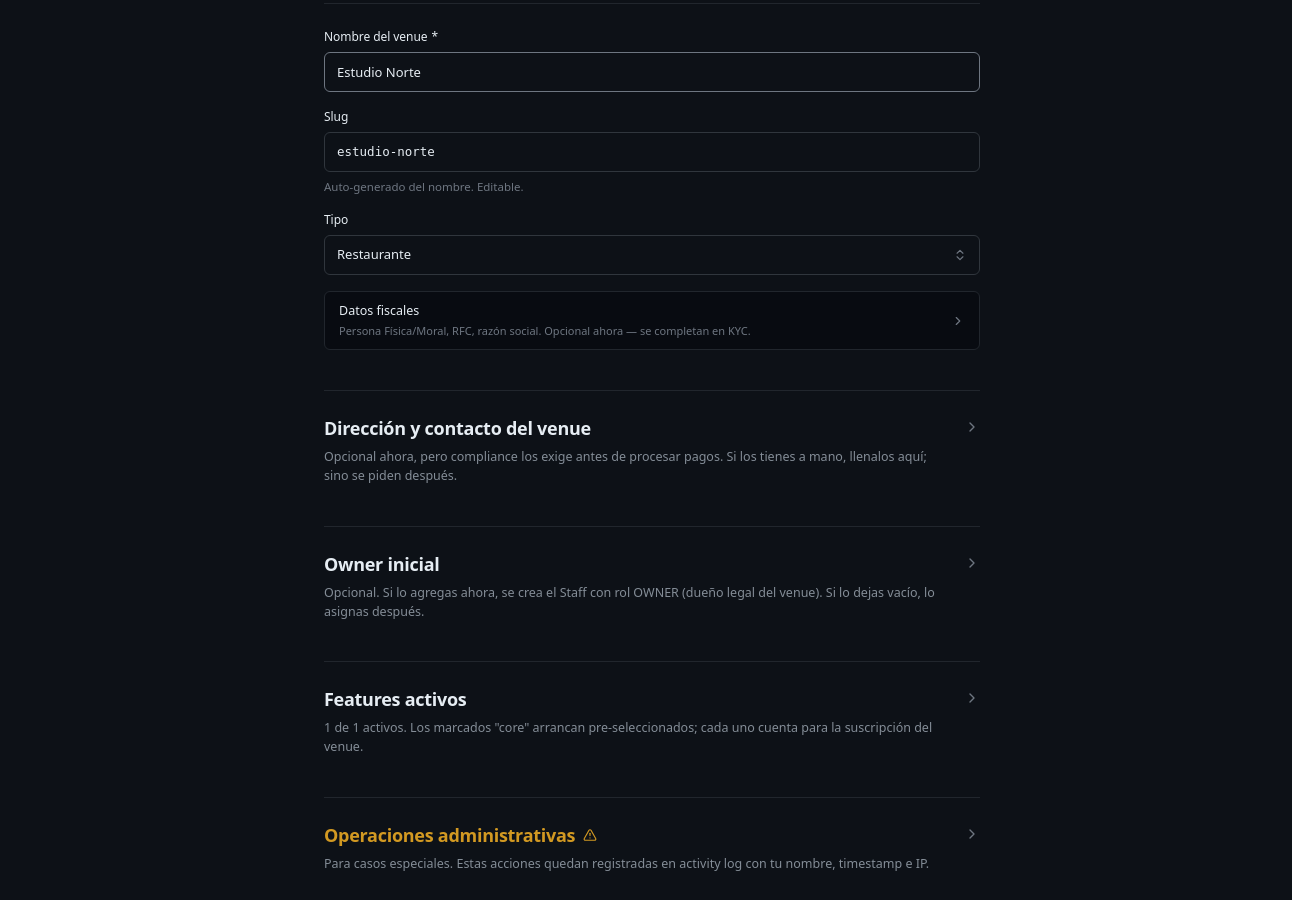
NewVenuePage con expediente › precarga sólo información existente y conserva aprobación manual separada
(page scrolled)
expect the field labelled "Nombre del venue*" holds "Estudio Norte": met, box [324,52,980,92]
Click the button "Dirección y contacto" at (652,451), box [324,415,980,486]
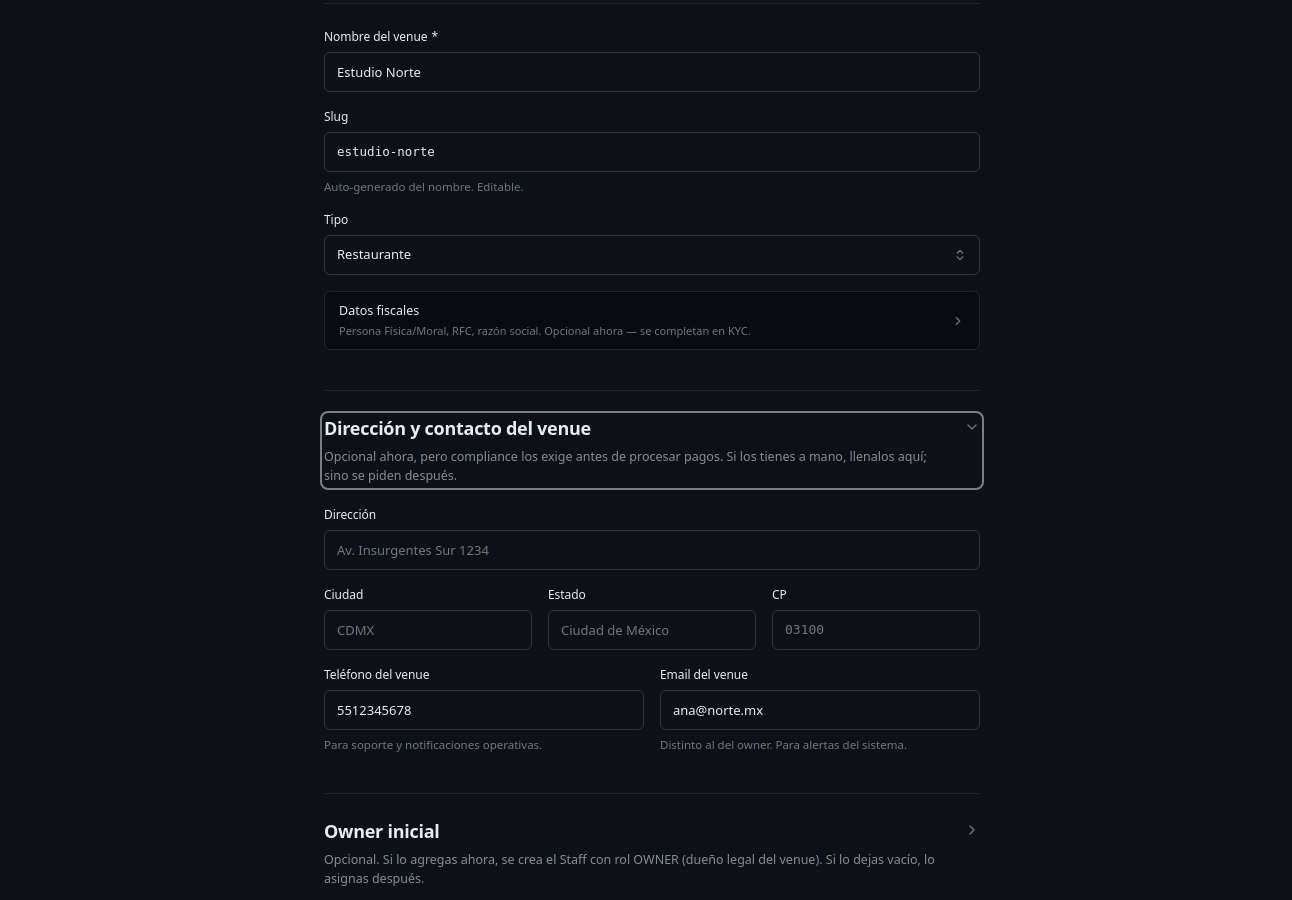
expect the field labelled "Email del venue" holds "ana@norte.mx": met, box [660,690,980,730]
expect the field labelled "Dirección" is empty: met, box [324,530,980,570]
Click the button "Datos fiscales" at (652,321), box [325,292,979,350]
(page scrolled)
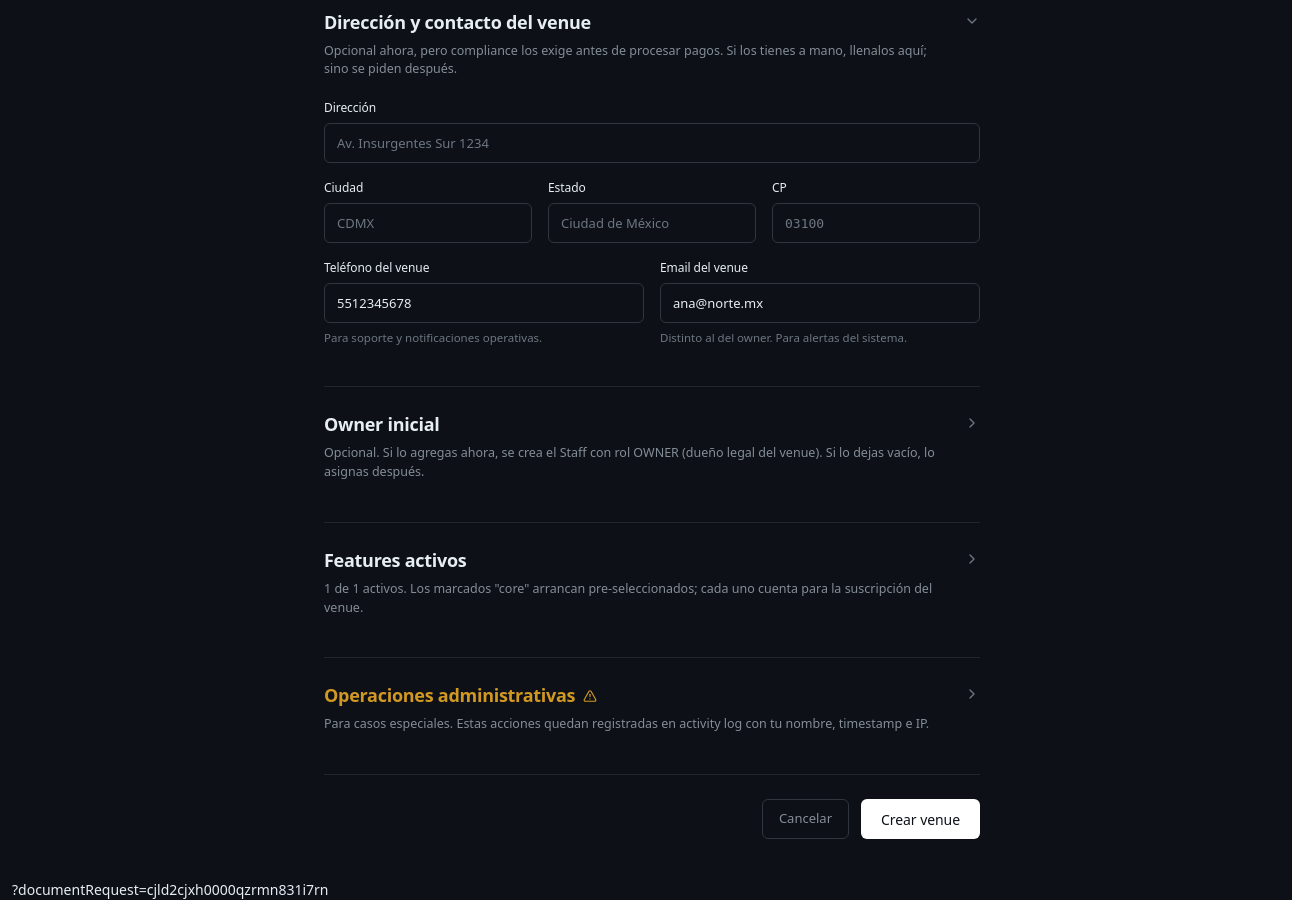
Click the button "Operaciones administrativas" at (450,695), box [324,682,980,734]
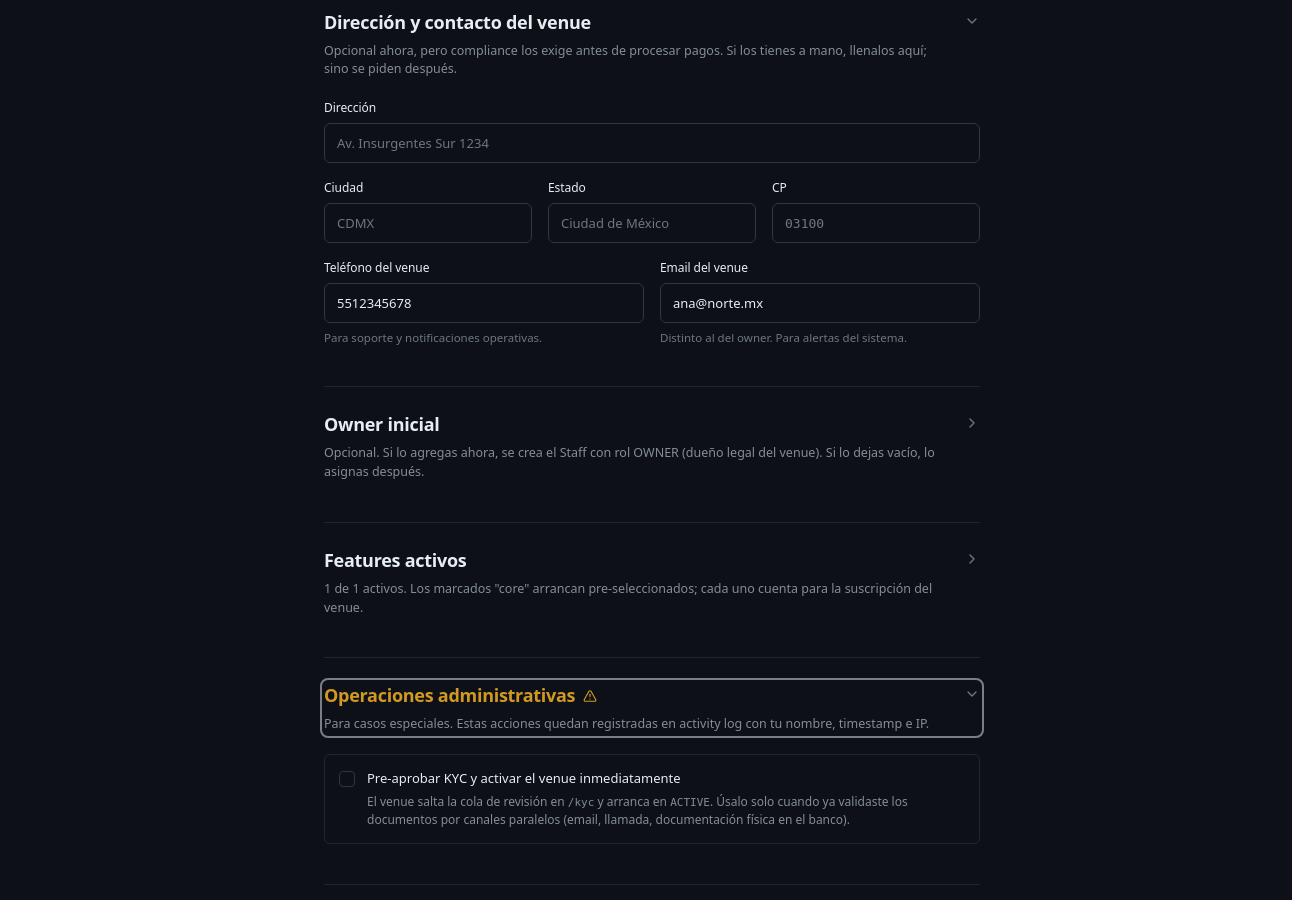
expect the checkbox with id "approve-kyc" is not checked: met, box [339,771,355,787]
